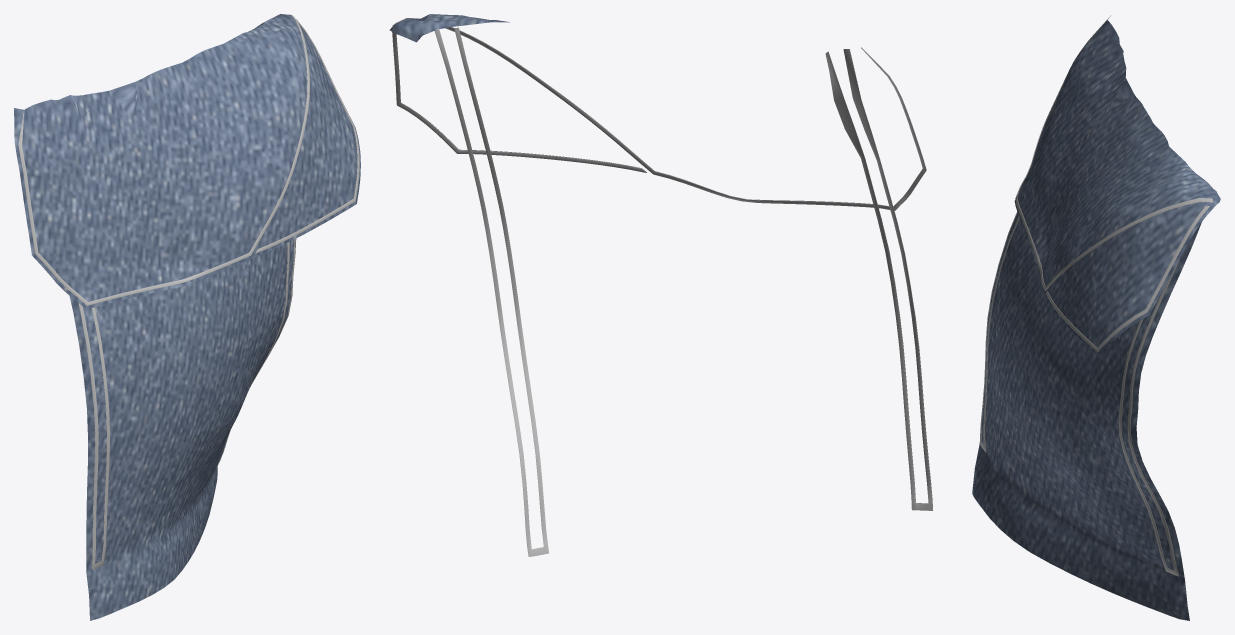
Rendered from Jac_Pocket_RIGHT_V1.glb.
3 views of the same model, side by side, from view 1: azimuth 30°, elevation 25°; view 2: azimuth 150°, elevation 25°; view 3: azimuth 270°, elevation 25° (orthographic). The views are drawn at different scales.
Visible parts, largest first — view 1: Jac_Pocket_RIGHT_V1.001, Jac_Rope_Pocket_RIGHT_V1.001; view 2: Jac_Rope_Pocket_RIGHT_V1.001, Jac_Pocket_RIGHT_V1.001; view 3: Jac_Pocket_RIGHT_V1.001, Jac_Rope_Pocket_RIGHT_V1.001.
Part boxes in pixels (x1,y1,x2,y2): Jac_Pocket_RIGHT_V1.001: [14, 14, 360, 620]; Jac_Rope_Pocket_RIGHT_V1.001: [18, 14, 359, 569]; Jac_Rope_Pocket_RIGHT_V1.001: [392, 18, 932, 556]; Jac_Pocket_RIGHT_V1.001: [389, 14, 509, 42]; Jac_Pocket_RIGHT_V1.001: [972, 16, 1220, 620]; Jac_Rope_Pocket_RIGHT_V1.001: [980, 20, 1213, 576].
Size of the model in its own units: 0.2231 by 0.2747 by 0.1259.
Materials: 2 (2 with a texture image).
